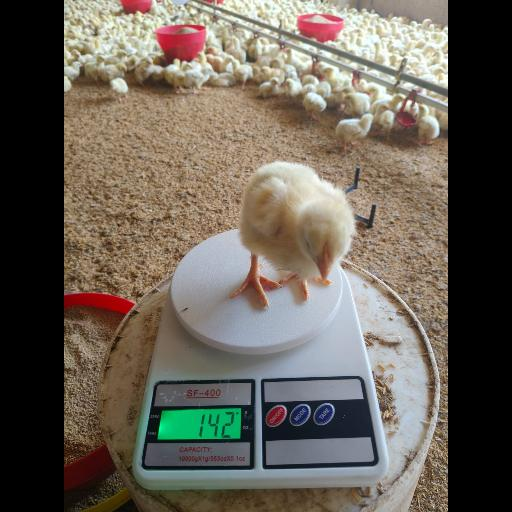chick: (229, 161, 355, 309)
